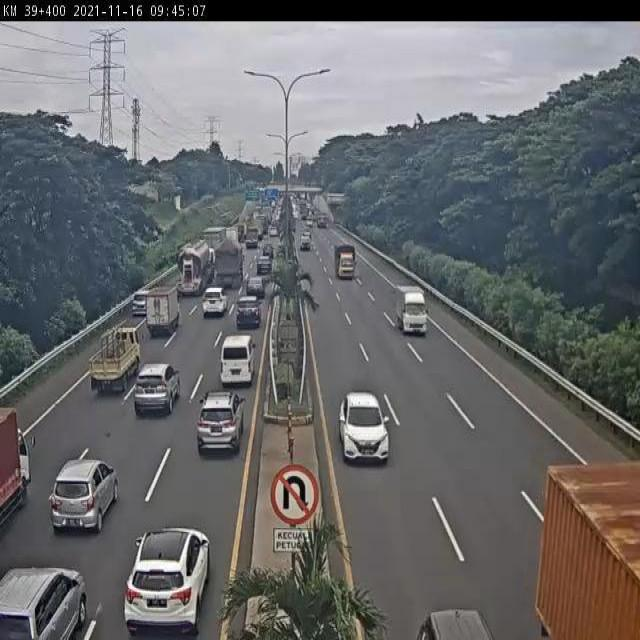car: (126, 525, 210, 636), (50, 458, 118, 534), (339, 394, 390, 462), (196, 390, 244, 454), (135, 364, 180, 415), (235, 299, 261, 328), (202, 293, 228, 319), (244, 278, 266, 302), (132, 293, 149, 316)
small bus: (220, 334, 256, 382)
small truck: (90, 328, 141, 392), (393, 284, 430, 337), (145, 285, 180, 335)
truck-l-: (212, 239, 245, 292)
truck-xl-: (176, 241, 215, 295)
